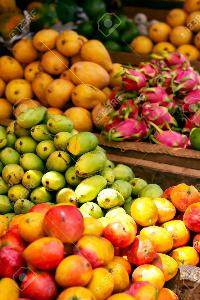mango: (0, 102, 138, 210)
pear: (0, 16, 112, 124)
pitaya: (112, 54, 200, 150)
